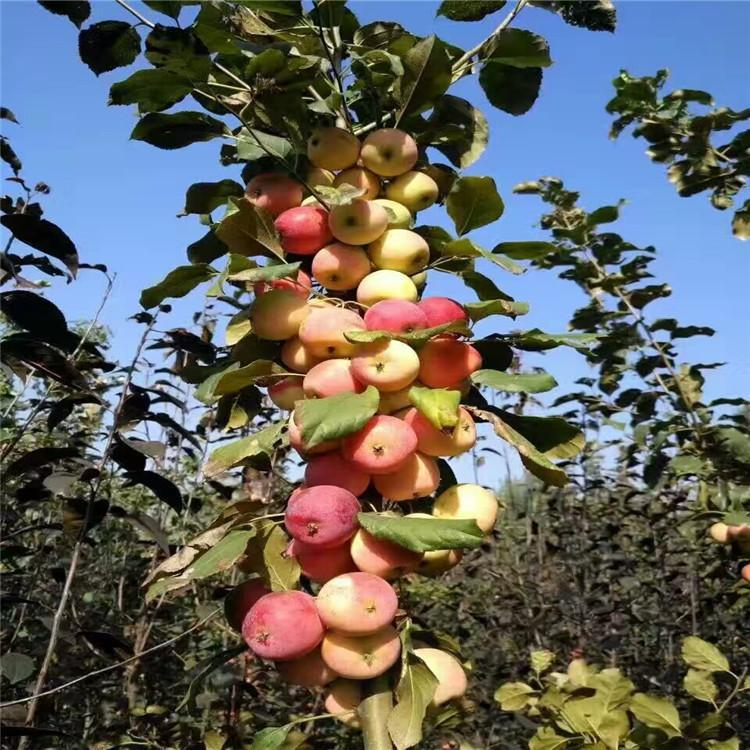apple: (240, 590, 323, 659), (316, 572, 400, 636), (284, 483, 361, 548), (341, 413, 417, 473), (398, 646, 467, 712), (320, 627, 402, 678), (402, 406, 479, 458), (350, 338, 420, 391), (350, 528, 423, 577), (298, 309, 368, 358), (312, 239, 372, 294), (416, 337, 480, 387), (362, 300, 431, 344), (274, 203, 332, 255), (242, 172, 305, 219), (359, 127, 418, 177), (248, 292, 308, 341), (370, 227, 429, 276), (300, 357, 363, 402), (330, 197, 388, 245), (357, 270, 420, 311), (306, 127, 360, 172), (385, 171, 438, 212)
